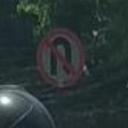NoVirarU: (34, 28, 86, 86)
